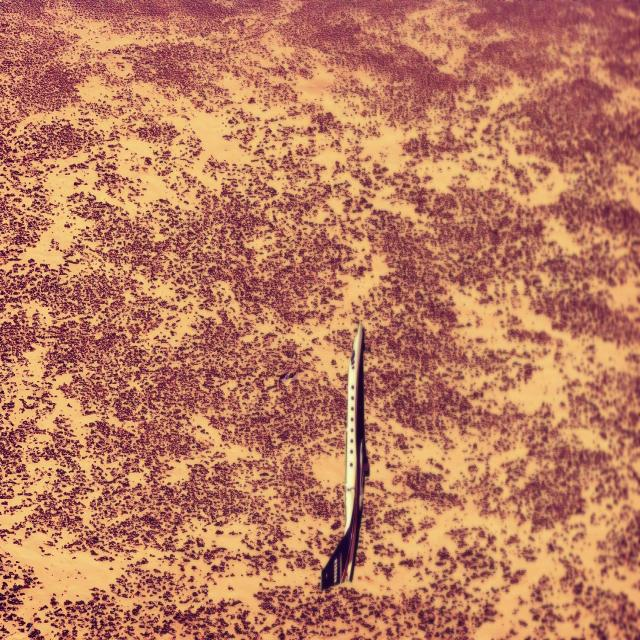airplane: (320, 321, 370, 591)
